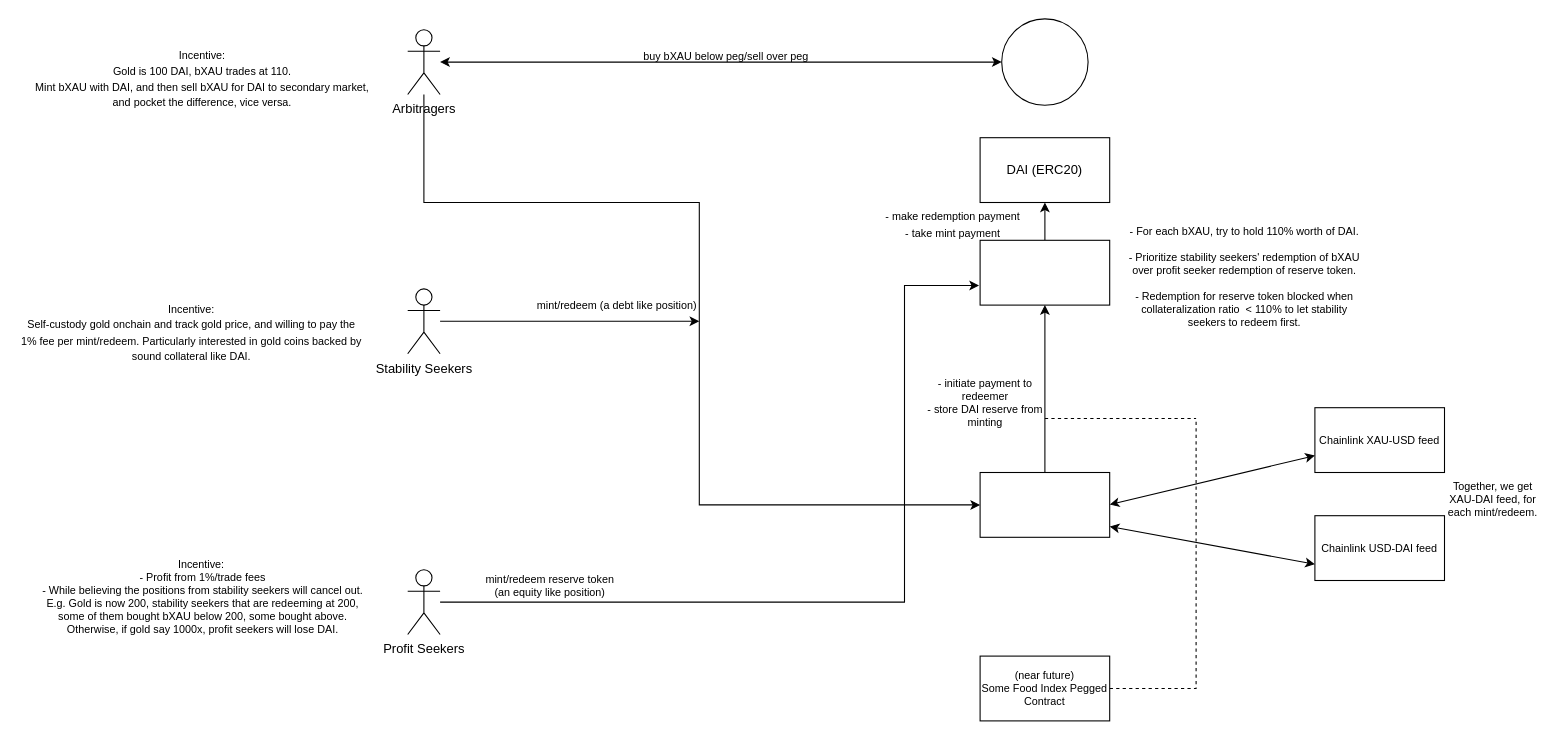
Some shapes in this 1560 by 740 pixel diagram are drawn without their labels. The shapes that lost their labels are listed below. From the top down, each one's centre as x and y in pixels, then its label:
At (x=1044, y=61): "Secondary market".
At (x=1044, y=272): "BMW (Bone Marrow, ERC20, Reserve Contract)".
At (x=1044, y=504): "BXAU (ERC20, Bone Gold Contract)".
